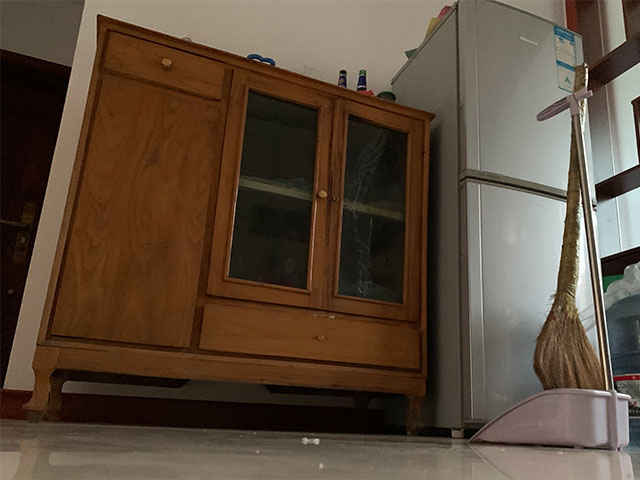cabinet: (20, 11, 436, 438)
